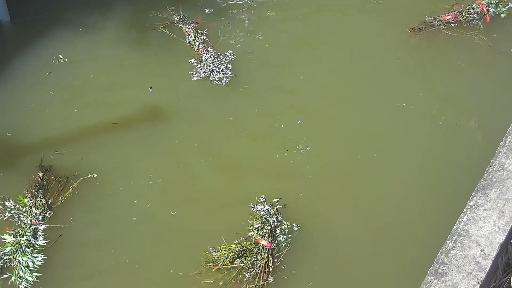twig: (0, 156, 110, 288), (186, 187, 319, 288), (147, 0, 243, 91), (411, 0, 512, 51)
